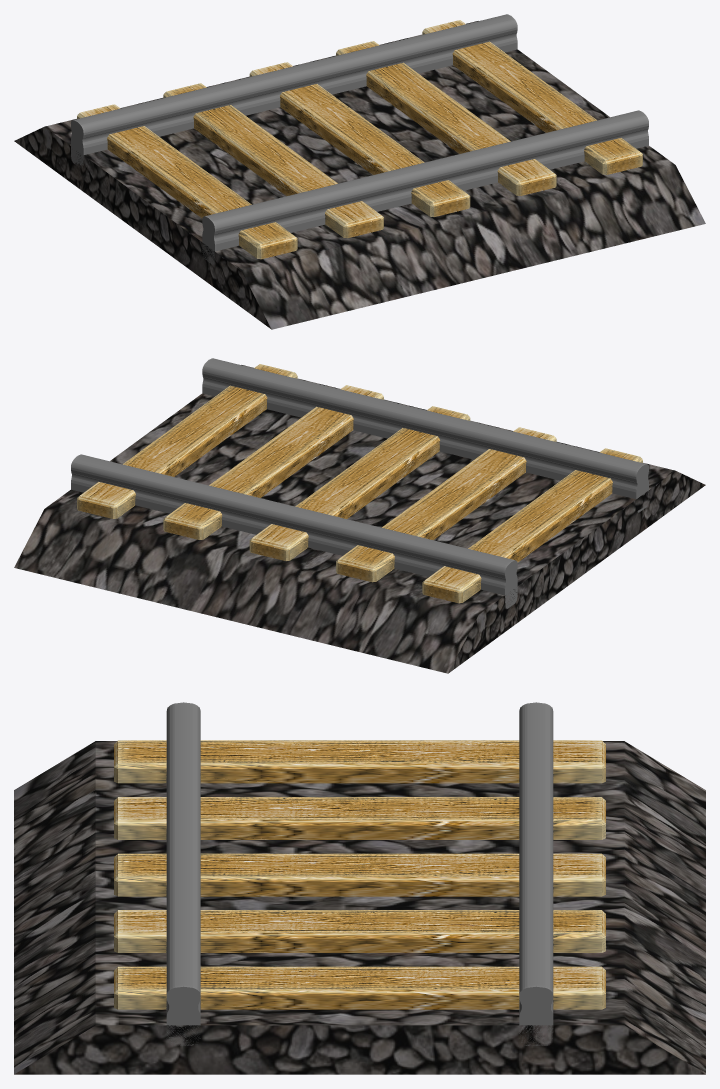
Rendered from straight-rail.glb.
The picture shows the model from 3 angles, top to bottom: view 1: azimuth 30°, elevation 25°; view 2: azimuth 150°, elevation 25°; view 3: azimuth 270°, elevation 25°; orthographic projection. The views are drawn at different scales.
Parts seen in each view (by area): view 1: Extrude_3, Extrude, Cube_1_3, Cube_1, Cube_1_4, Cube_1_2, Cube_1_5; view 2: Extrude_3, Extrude, Cube_1_3, Cube_1, Cube_1_4, Cube_1_2, Cube_1_5; view 3: Extrude_3, Extrude, Cube_1, Cube_1_3, Cube_1_5, Cube_1_2, Cube_1_4.
Boxes of the visible parts, x1,y1,x2,y2 form: Extrude_3: (14, 21, 705, 329); Extrude: (71, 14, 648, 264); Cube_1_3: (249, 62, 470, 216); Cube_1: (77, 104, 297, 259); Cube_1_4: (336, 41, 556, 195); Cube_1_2: (163, 83, 383, 238); Cube_1_5: (422, 20, 642, 174); Extrude_3: (14, 365, 705, 673); Extrude: (71, 358, 648, 608); Cube_1_3: (249, 406, 470, 560); Cube_1: (422, 448, 642, 603); Cube_1_4: (163, 385, 383, 539); Cube_1_2: (336, 427, 556, 582); Cube_1_5: (77, 364, 297, 518); Extrude_3: (14, 741, 705, 1074); Extrude: (166, 702, 553, 1045); Cube_1: (114, 740, 605, 783); Cube_1_3: (114, 853, 605, 896); Cube_1_5: (114, 966, 605, 1009); Cube_1_2: (114, 797, 605, 839); Cube_1_4: (114, 910, 605, 952).
Bounding box in the file's own units: 4 × 0.5762 × 4.11.
3 materials, 3 textured.
